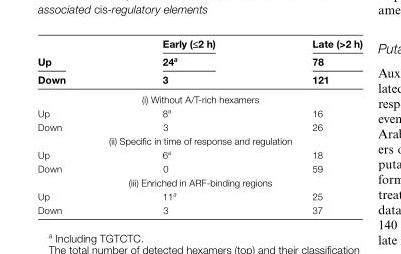table: (37, 36, 362, 215)
table column: (113, 36, 263, 215), (263, 36, 362, 215), (37, 36, 113, 215)
table column header: (37, 36, 362, 89)
table projected row header: (37, 89, 362, 105), (37, 174, 362, 188), (37, 133, 362, 146)
table row: (37, 69, 362, 89), (37, 51, 362, 69), (37, 89, 362, 105), (37, 36, 362, 51), (37, 146, 362, 161), (37, 105, 362, 119), (37, 119, 362, 133), (37, 174, 362, 188), (37, 188, 362, 202), (37, 133, 362, 146), (37, 161, 362, 174), (37, 202, 362, 215)
table spanning cell: (113, 36, 263, 89), (263, 36, 362, 89), (37, 36, 113, 89)
